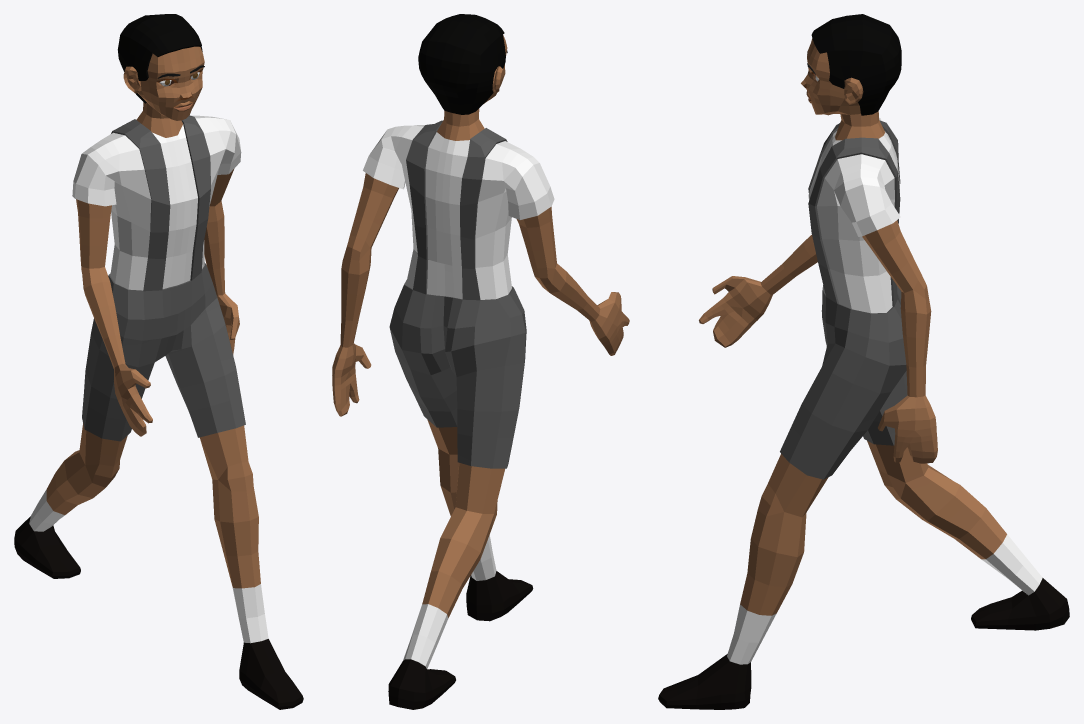
File: Child_A_Walk.fbx
The picture shows the model from 3 angles, left to right: view 1: azimuth 30°, elevation 25°; view 2: azimuth 150°, elevation 25°; view 3: azimuth 270°, elevation 25°; orthographic projection. The views are drawn at different scales.
Parts seen in each view (by area): view 1: Child_A_Walk; view 2: Child_A_Walk; view 3: Child_A_Walk.
Part boxes in pixels (<box>): Child_A_Walk: <box>14,14,303,709</box>; Child_A_Walk: <box>332,14,629,709</box>; Child_A_Walk: <box>658,14,1069,709</box>.
Size of the model in its own units: 0.1752 by 0.5552 by 0.3121.
